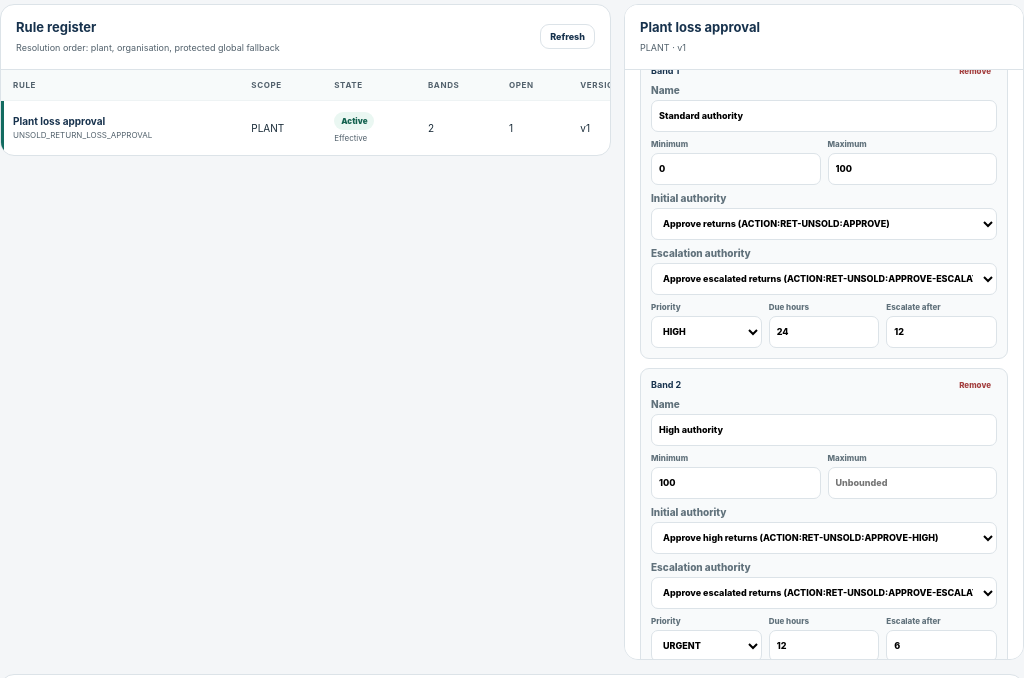
approval governance workspace › edits contiguous authority bands as a new policy version
(page scrolled)
Expected: the heading "Plant loss approval" is shown, [640,19,760,35]
Replace the text in the number field named "Band 1 due hours" with "18" at [824, 332], box [769,316,879,348]
(page scrolled)
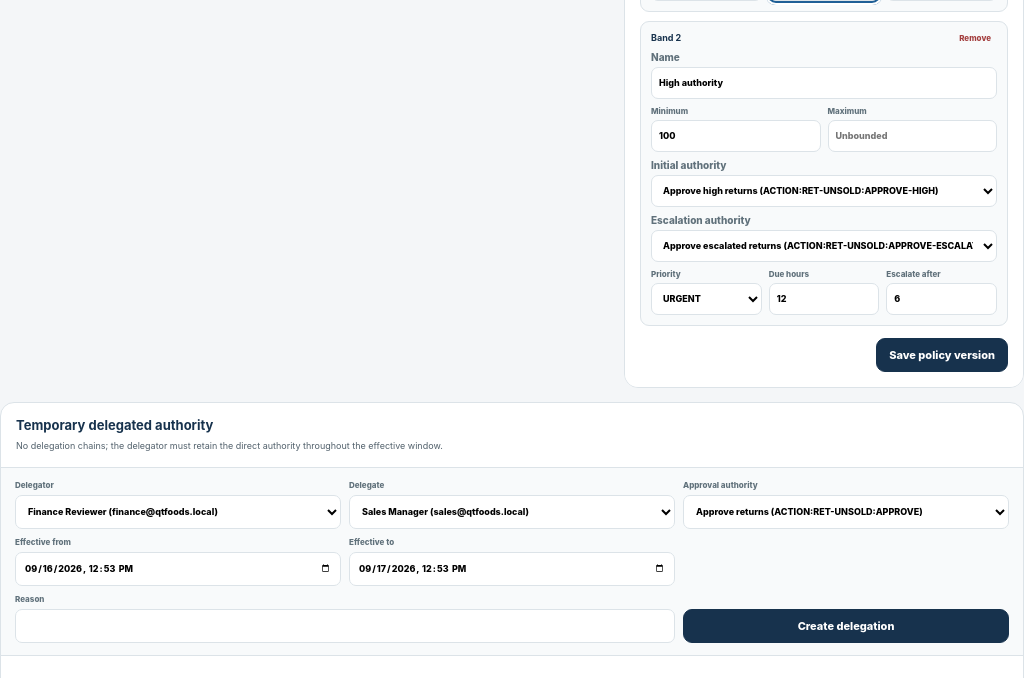
Click the button "Save policy version" at [942, 354], box [876,338,1008,372]
(page scrolled)
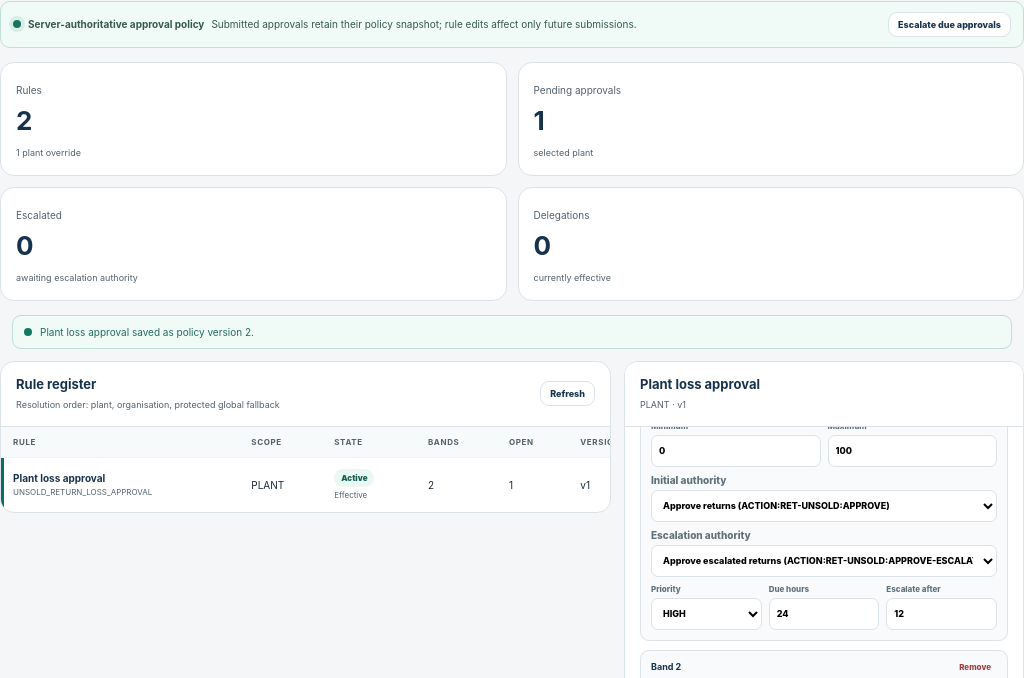
Now the message shows "policy version 2", box [40,326,254,338]
